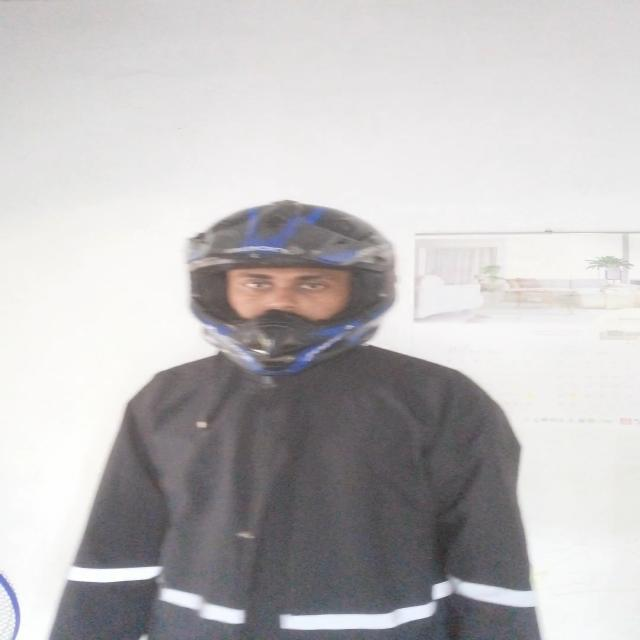Helmet_Wearer: (173, 192, 409, 382)
Jacket_Wearer: (31, 321, 551, 640)
Person: (61, 194, 538, 640)
